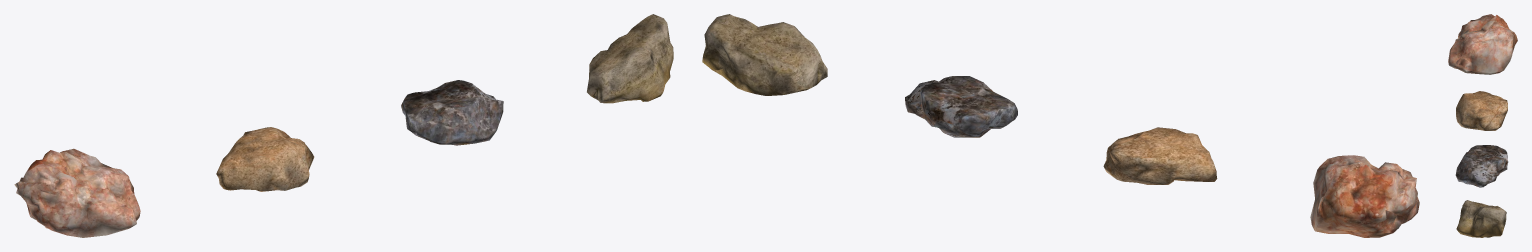
Rendered from rocks.glb.
3 renders of one model, left to right at view 1: azimuth 30°, elevation 25°; view 2: azimuth 150°, elevation 25°; view 3: azimuth 270°, elevation 25°, orthographic. The views are drawn at different scales.
Parts seen in each view (by area): view 1: namaqualand_rocks_02_a; view 2: namaqualand_rocks_02_a; view 3: namaqualand_rocks_02_a.
Boxes of the visible parts, x1,y1,x2,y2 form: namaqualand_rocks_02_a: (14, 14, 673, 237); namaqualand_rocks_02_a: (702, 14, 1419, 237); namaqualand_rocks_02_a: (1448, 14, 1517, 237).
Size of the model in its own units: 3.84 by 0.3998 by 0.5697.
Materials: 1 (1 with a texture image).
